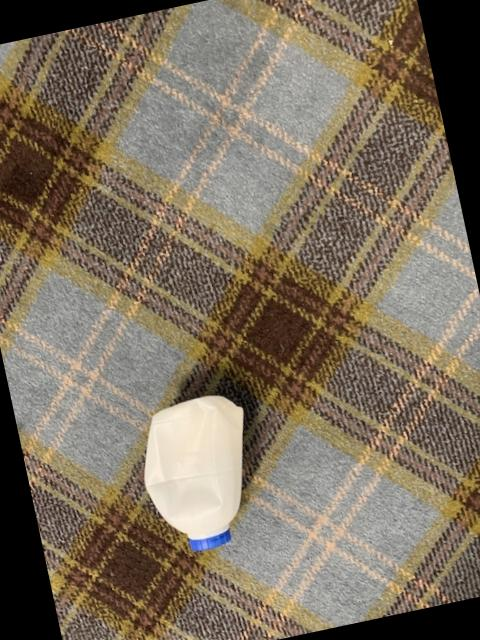plastic: (143, 394, 242, 549)
